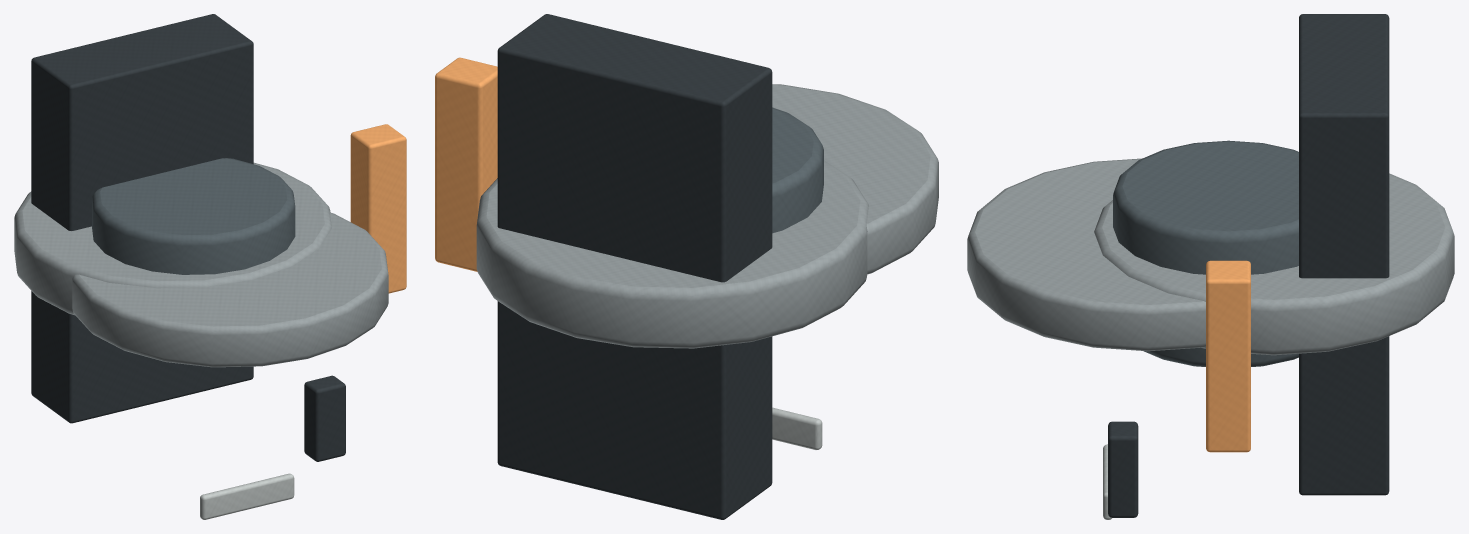
File: WallCableReel.glb
3 renders of one model, left to right at view 1: azimuth 30°, elevation 25°; view 2: azimuth 150°, elevation 25°; view 3: azimuth 270°, elevation 25°, orthographic. The views are drawn at different scales.
Visible parts, largest first — view 1: WallCableReel_Mesh; view 2: WallCableReel_Mesh; view 3: WallCableReel_Mesh.
Boxes of the visible parts, <box> form: WallCableReel_Mesh: <box>14,14,406,519</box>; WallCableReel_Mesh: <box>435,14,938,519</box>; WallCableReel_Mesh: <box>967,14,1454,519</box>.
Bounding box in the file's own units: 0.89 × 0.95 × 0.97.
6 materials, 6 textured.
